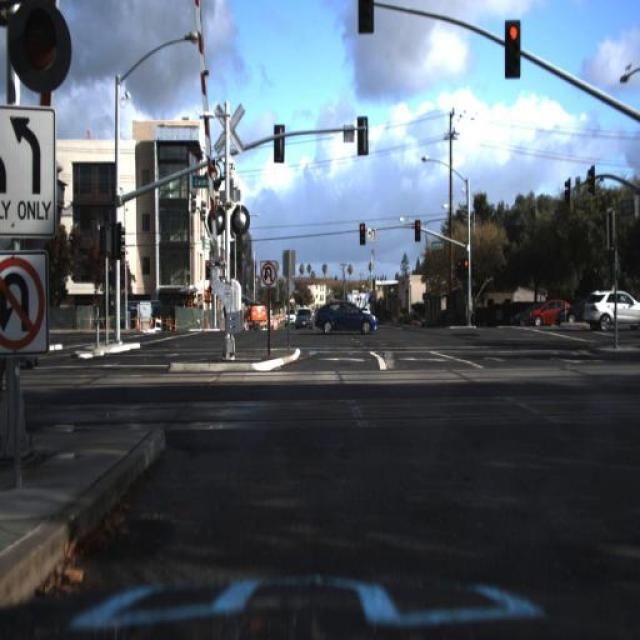car: (309, 298, 386, 342), (556, 293, 622, 329), (529, 296, 575, 330), (532, 293, 557, 331), (554, 294, 584, 324), (293, 306, 315, 338), (281, 306, 295, 336)
trafficLight-Green: (8, 0, 70, 91), (356, 0, 375, 34)
trafficLight-RedLeft: (503, 15, 522, 86), (461, 248, 472, 282), (412, 212, 422, 248), (356, 218, 366, 248)
